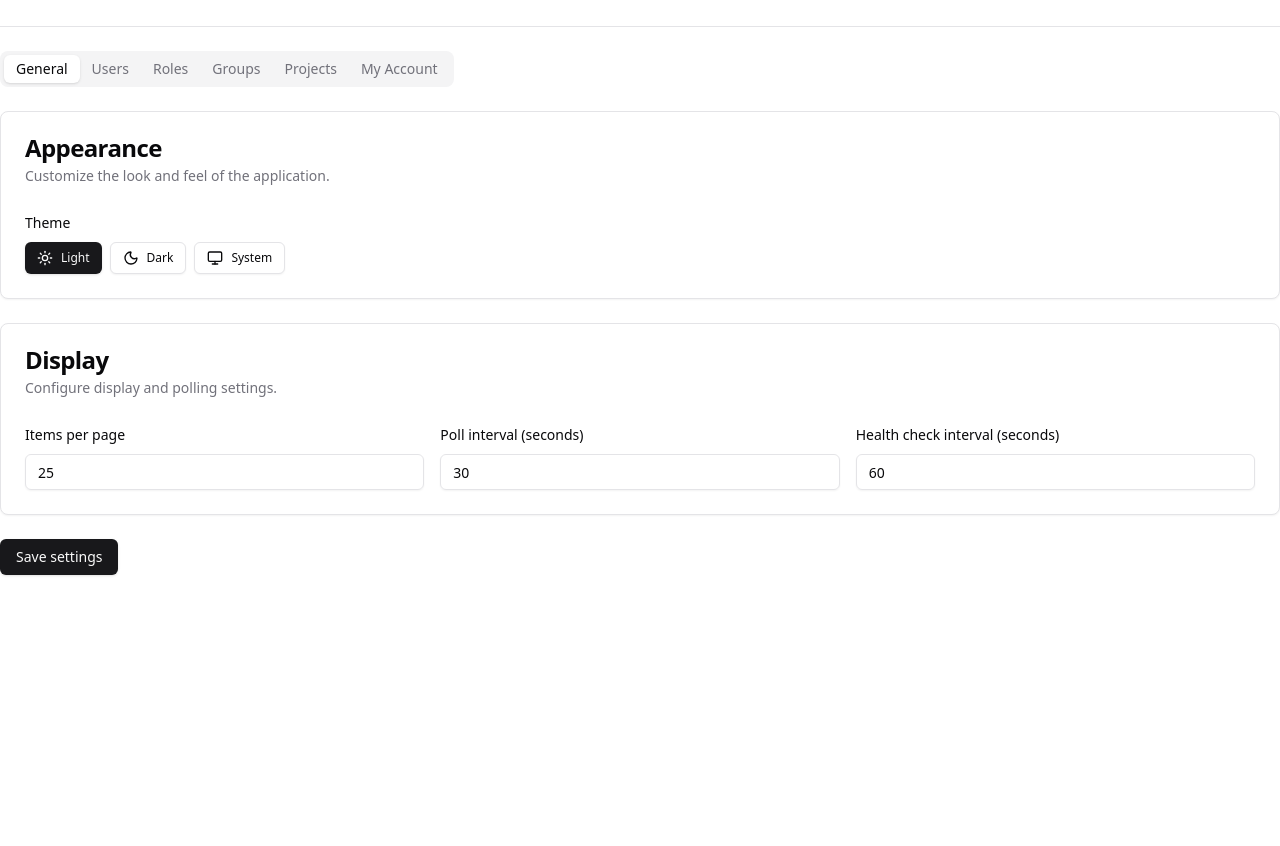
Scenario: SettingsPage › My Account tab shows My projects card
Click the tab "My Account": (399, 69) 349,55 -> 450,83
(page scrolled)
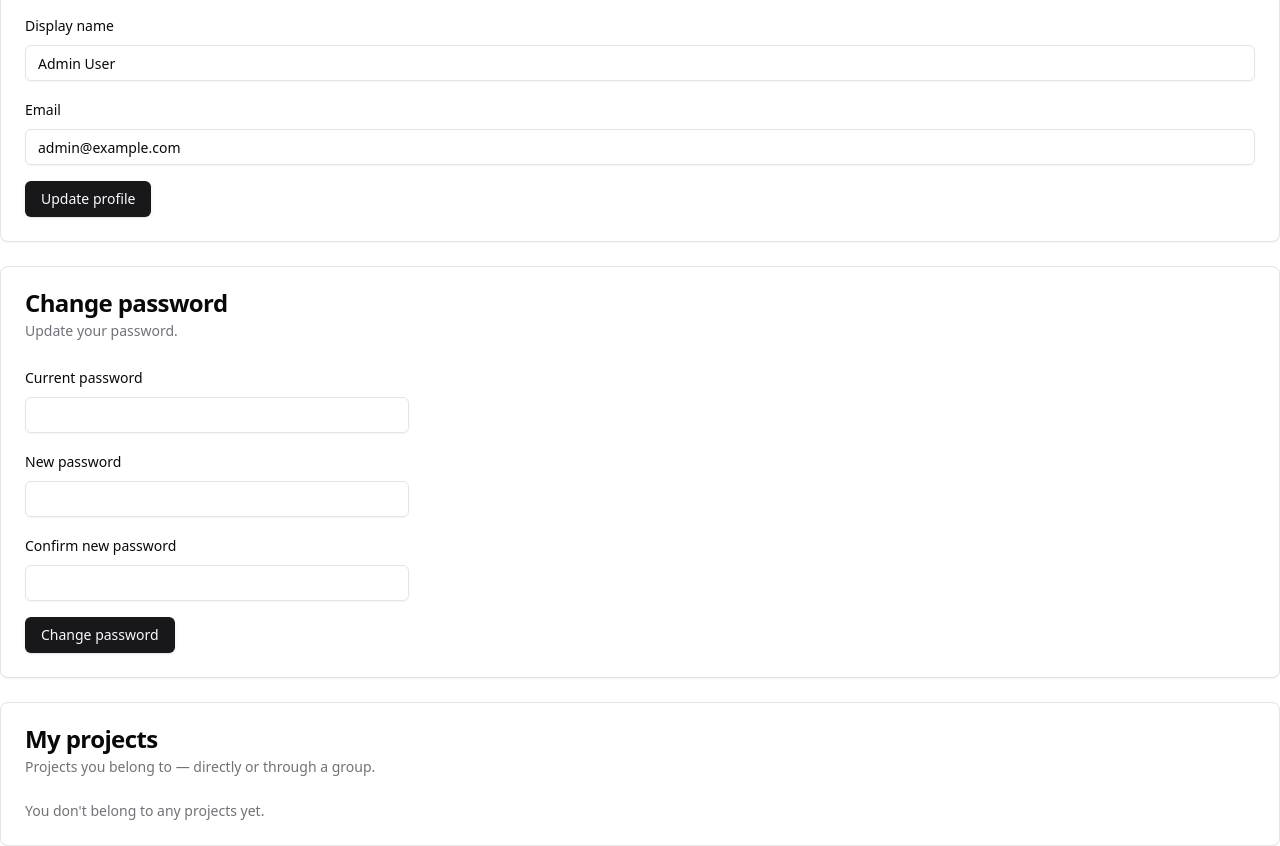
Result: the heading "My projects" is shown at 25,722 -> 158,755
